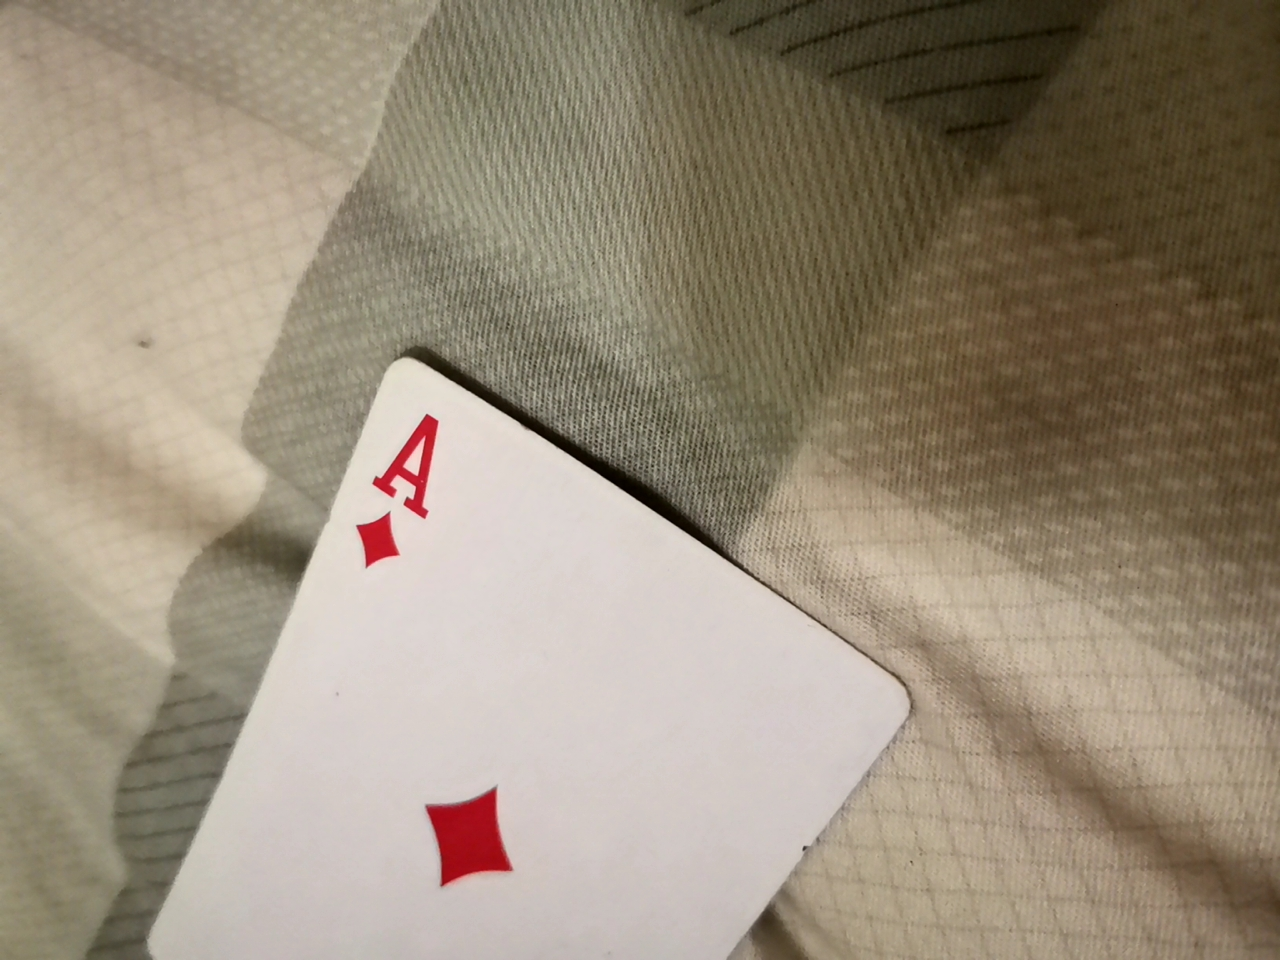fk a: (63, 358, 929, 959)
